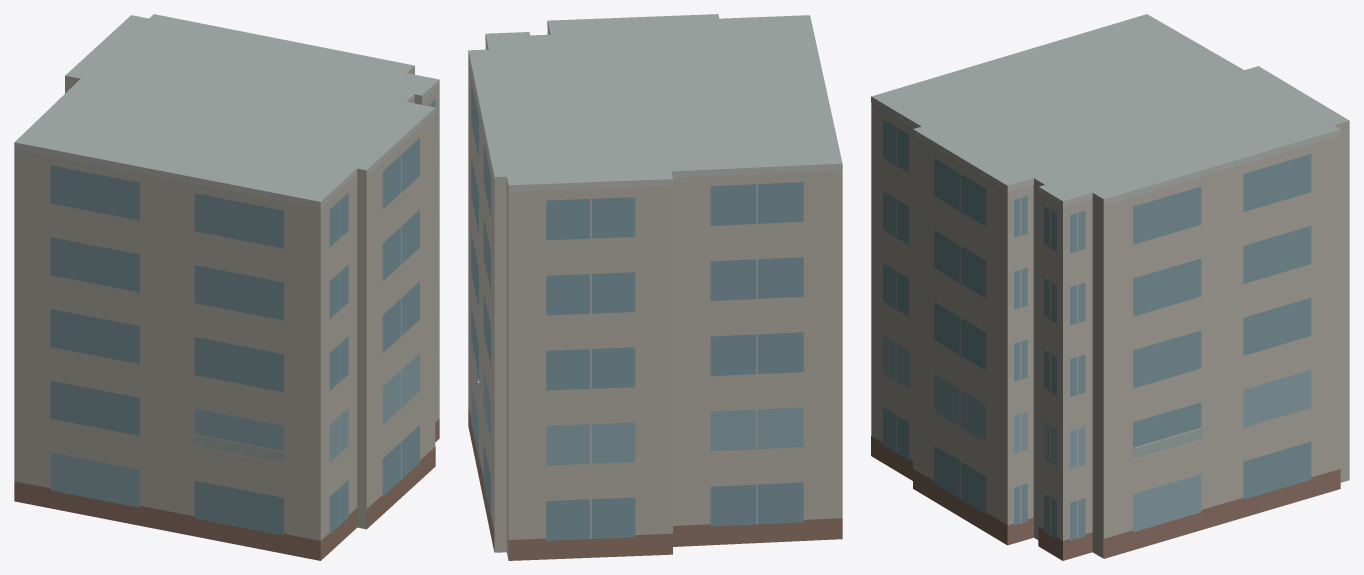
Rendered from survey-upis-32952121.glb.
The picture shows the model from 3 angles, left to right: view 1: azimuth 30°, elevation 25°; view 2: azimuth 150°, elevation 25°; view 3: azimuth 270°, elevation 25°; orthographic projection. The views are drawn at different scales.
Visible parts, largest first — view 1: survey-upis-32952121.tmp; view 2: survey-upis-32952121.tmp; view 3: survey-upis-32952121.tmp.
Part boxes in pixels (x1=…): survey-upis-32952121.tmp: x1=14, y1=14, x2=439, y2=560; survey-upis-32952121.tmp: x1=468, y1=14, x2=842, y2=560; survey-upis-32952121.tmp: x1=871, y1=14, x2=1349, y2=560.
Size of the model in its own units: 15.43 by 13.8 by 16.65.
